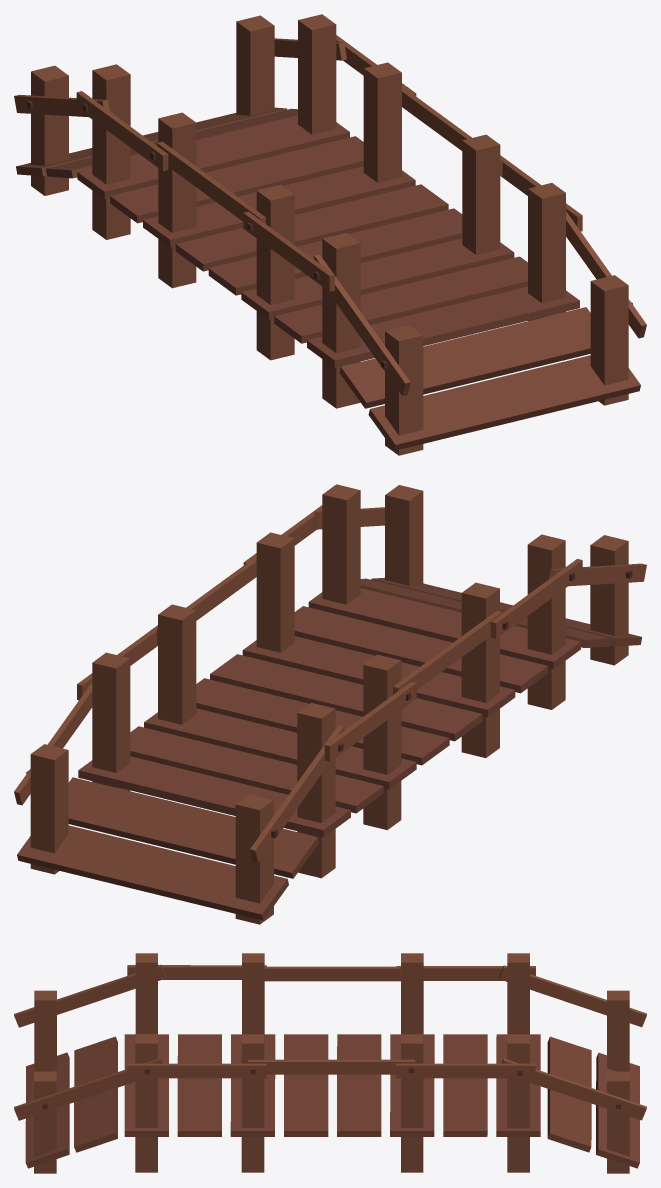
The model's file is bridge.fbx.
3 renders of one model, top to bottom at view 1: azimuth 30°, elevation 25°; view 2: azimuth 150°, elevation 25°; view 3: azimuth 270°, elevation 25°, orthographic. The views are drawn at different scales.
Parts seen in each view (by area): view 1: bridge, railings; view 2: bridge, railings; view 3: railings, bridge.
Boxes of the visible parts, x1=… form: bridge: x1=16, y1=107, x2=640, y2=450; railings: x1=14, y1=14, x2=646, y2=455; bridge: x1=17, y1=577, x2=641, y2=920; railings: x1=14, y1=484, x2=646, y2=924; railings: x1=14, y1=953, x2=646, y2=1173; bridge: x1=25, y1=1034, x2=639, y2=1168.
Bounding box in the file's own units: 104 × 61.97 × 273.
